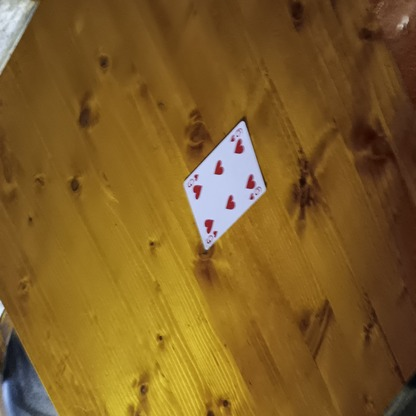6h: (245, 183, 263, 202), (202, 228, 219, 247), (228, 126, 244, 144), (184, 172, 198, 188)
